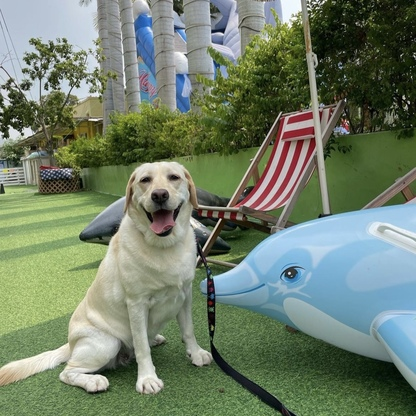labrado: (1, 156, 216, 398)
